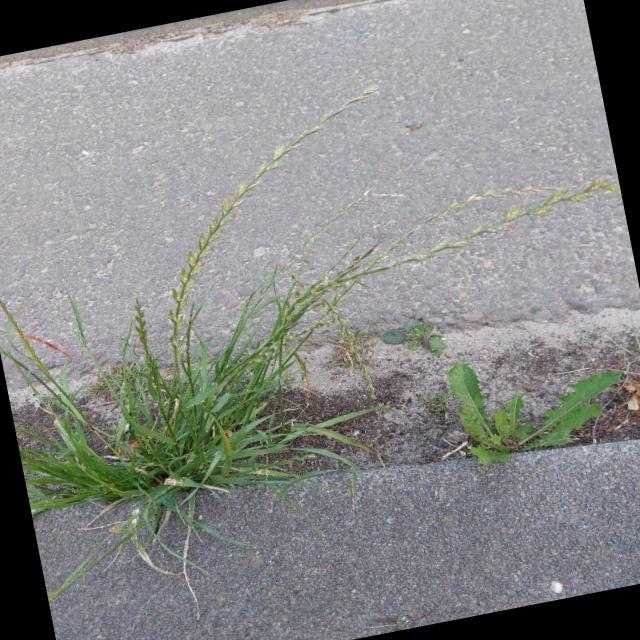Lolium: (0, 229, 421, 556), (133, 83, 431, 381), (237, 170, 638, 354)
